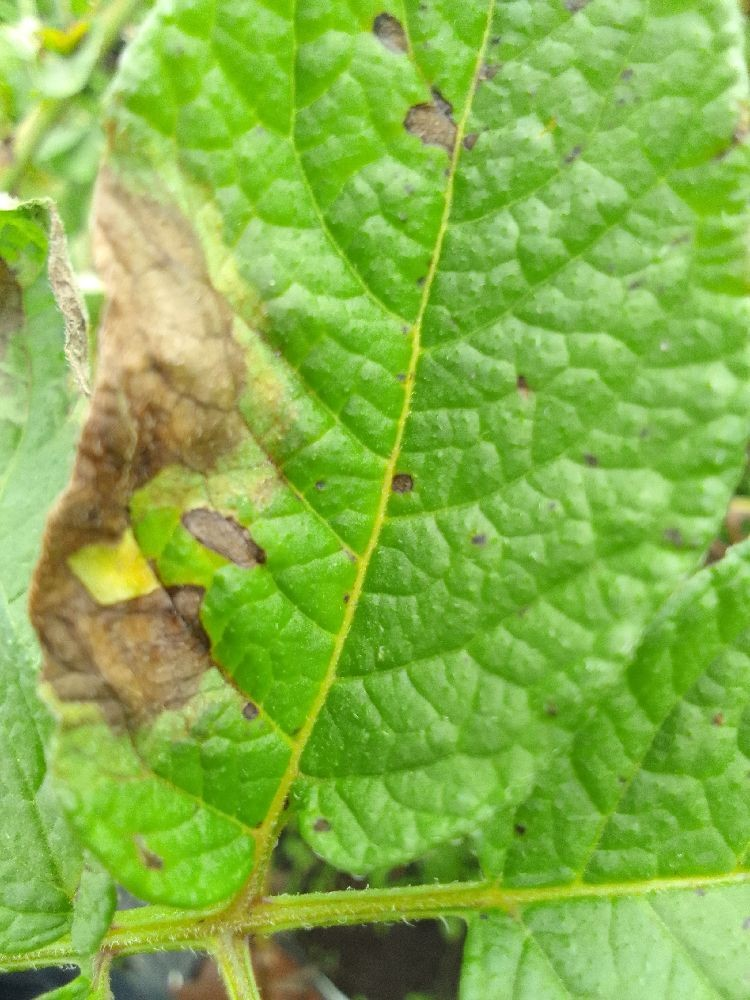late_blight: (205, 890, 491, 1000), (171, 494, 276, 577), (162, 948, 236, 1000)
